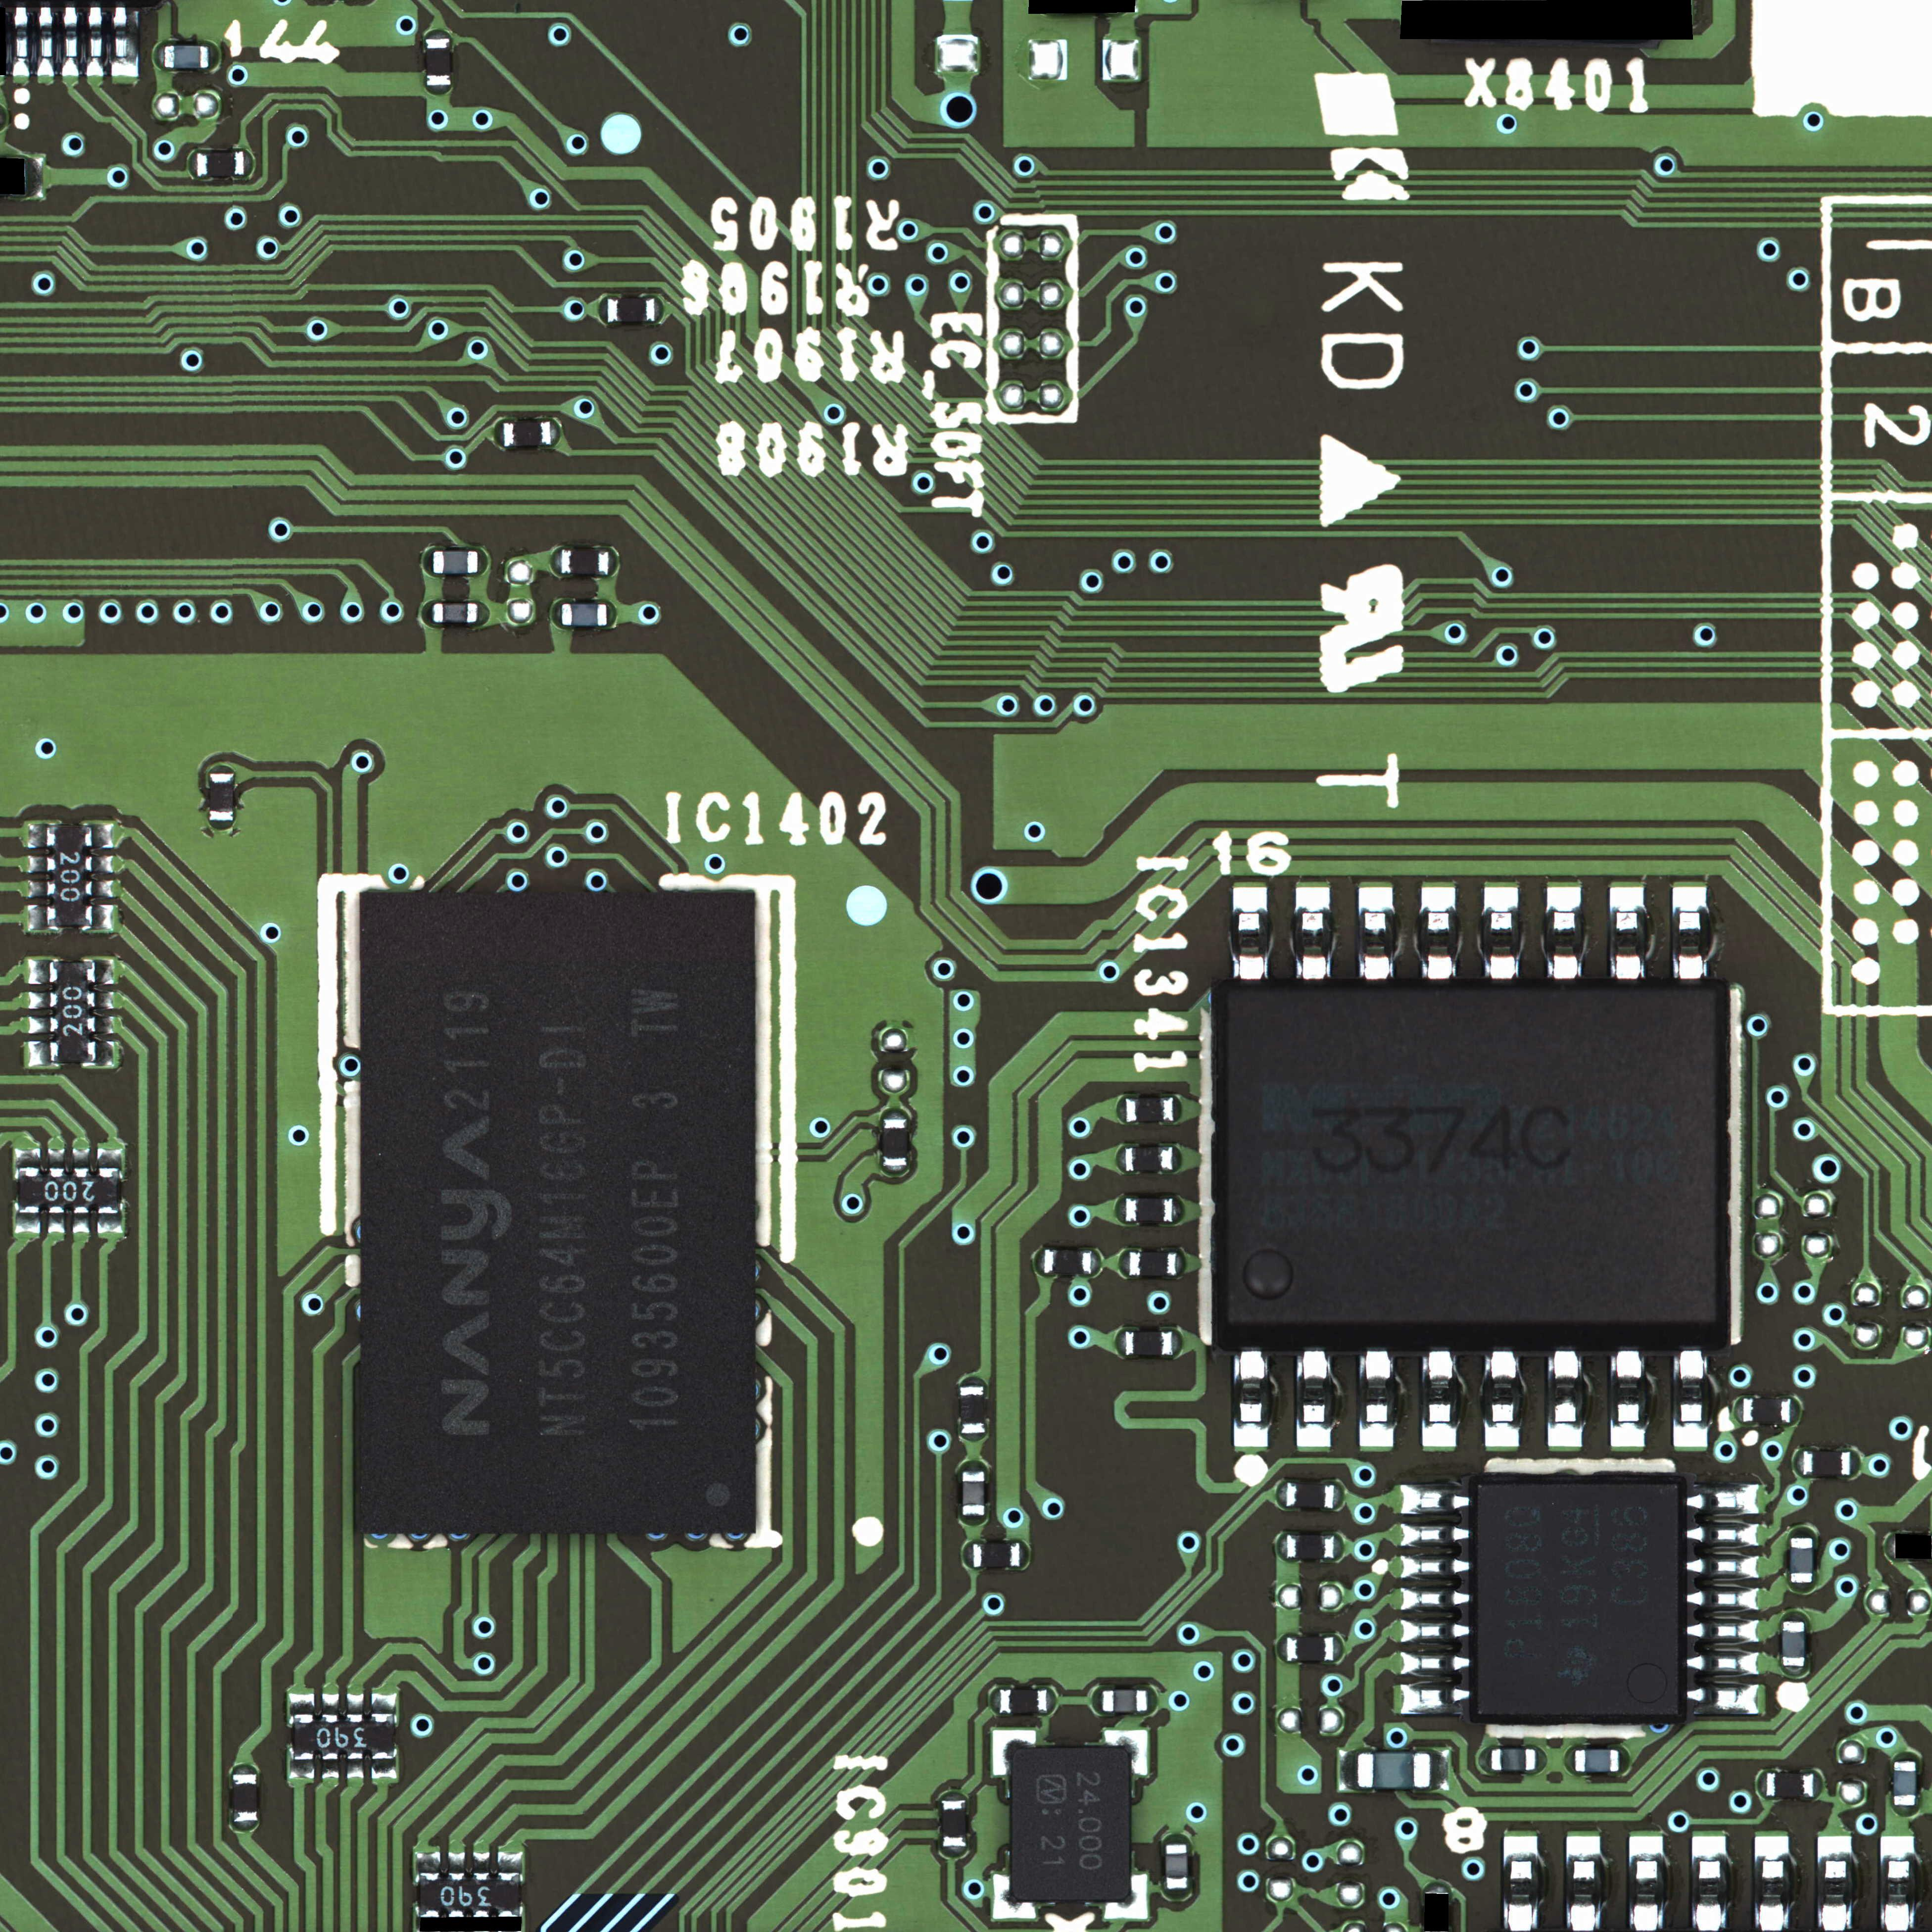Package: (361, 892, 755, 1532), (1219, 980, 1729, 1352), (1468, 1476, 1686, 1721), (1012, 1748, 1131, 1900), (50, 961, 96, 1062), (294, 1714, 395, 1760), (19, 1168, 119, 1214), (48, 826, 92, 925), (418, 1884, 520, 1916), (1359, 1753, 1430, 1787), (1286, 1481, 1334, 1507), (1125, 1198, 1173, 1223), (1125, 1146, 1173, 1171), (1286, 1637, 1334, 1661), (234, 1775, 258, 1821), (563, 548, 609, 573), (426, 39, 451, 85), (961, 1387, 985, 1433), (1131, 1251, 1177, 1276), (1046, 1249, 1092, 1274), (1803, 1451, 1849, 1476), (211, 773, 234, 821), (1000, 1690, 1047, 1713), (1125, 1332, 1173, 1355), (883, 1118, 906, 1166), (198, 152, 244, 175), (504, 423, 550, 446), (973, 1545, 1019, 1568), (1127, 1099, 1173, 1122), (1288, 1536, 1334, 1559), (1767, 1773, 1813, 1796), (1744, 1399, 1790, 1422), (433, 550, 478, 573), (563, 603, 607, 626), (943, 1801, 966, 1845), (607, 299, 655, 320), (962, 1472, 985, 1514), (1783, 1621, 1805, 1667), (1893, 1762, 1916, 1805), (1102, 1690, 1146, 1711), (1575, 1750, 1619, 1771), (1491, 1748, 1536, 1769), (1790, 1537, 1812, 1582), (165, 46, 207, 67), (1166, 1845, 1187, 1888), (433, 603, 478, 623)
Solder: (1690, 1835, 1725, 1932), (1233, 1352, 1269, 1447), (1484, 1352, 1520, 1447), (1504, 1835, 1539, 1930), (1564, 1835, 1599, 1930), (1879, 1836, 1914, 1932), (1753, 1835, 1789, 1930), (1359, 1352, 1394, 1445), (1421, 1352, 1456, 1445), (1610, 1352, 1645, 1445), (1672, 1352, 1707, 1445), (1295, 886, 1330, 978), (1546, 886, 1582, 978), (1297, 1352, 1330, 1447), (1548, 1352, 1582, 1447), (1629, 1835, 1663, 1930), (1819, 1835, 1852, 1930), (1233, 886, 1267, 978), (1359, 886, 1392, 978), (1421, 886, 1454, 978), (1484, 886, 1518, 978), (1610, 886, 1644, 978), (1672, 886, 1706, 978), (1686, 1484, 1759, 1514), (1688, 1684, 1759, 1714), (1399, 1684, 1468, 1714), (1399, 1484, 1468, 1514), (1104, 1730, 1148, 1775), (993, 1730, 1037, 1775), (993, 1874, 1037, 1918), (1104, 1874, 1146, 1920), (111, 5, 138, 74), (1399, 1651, 1468, 1675), (1399, 1619, 1468, 1644), (1688, 1523, 1759, 1546), (1688, 1555, 1759, 1578), (1688, 1587, 1759, 1610), (1399, 1587, 1468, 1610), (1399, 1555, 1468, 1578), (1399, 1523, 1468, 1546), (1688, 1621, 1759, 1642), (1688, 1652, 1759, 1674), (37, 5, 55, 76), (87, 7, 104, 78), (62, 7, 80, 76), (12, 7, 30, 76), (27, 154, 44, 200), (1430, 1752, 1449, 1789), (497, 1852, 522, 1881), (416, 1852, 441, 1879), (1341, 1752, 1359, 1787), (28, 1040, 50, 1069), (28, 959, 50, 985), (97, 1214, 124, 1235), (92, 904, 113, 929), (14, 1148, 41, 1168), (288, 1693, 315, 1713), (372, 1693, 398, 1713), (372, 1759, 398, 1778), (288, 1760, 315, 1780), (92, 824, 113, 847), (96, 959, 115, 984), (96, 1042, 115, 1067), (97, 1148, 122, 1168), (16, 1214, 41, 1233), (28, 823, 46, 849), (28, 904, 46, 931), (448, 1852, 465, 1879), (28, 1016, 51, 1035), (474, 1852, 490, 1879), (92, 855, 115, 872), (92, 879, 115, 897), (28, 879, 48, 899), (96, 1016, 115, 1035), (71, 1214, 90, 1233), (28, 991, 50, 1008), (28, 855, 46, 874), (96, 993, 115, 1010), (73, 1148, 90, 1168), (48, 1214, 65, 1233), (322, 1693, 340, 1713), (1477, 1748, 1491, 1771), (347, 1695, 364, 1713), (347, 1760, 364, 1778), (322, 1760, 340, 1778), (48, 1148, 64, 1168), (1173, 1198, 1185, 1223), (943, 1845, 968, 1858), (1426, 1881, 1449, 1893), (1276, 1534, 1288, 1557), (1115, 1196, 1125, 1223), (1115, 1330, 1125, 1357), (1334, 1481, 1345, 1507), (1276, 1481, 1286, 1507), (207, 46, 219, 67), (242, 152, 253, 177), (550, 548, 561, 573), (426, 28, 451, 39), (426, 85, 451, 96), (1092, 1249, 1102, 1274), (1177, 1251, 1187, 1276), (962, 1543, 973, 1568), (1019, 1543, 1030, 1568), (989, 1688, 1000, 1713), (1047, 1688, 1058, 1713), (1090, 1690, 1102, 1711), (1334, 1637, 1345, 1661), (1276, 1637, 1286, 1661), (1334, 1534, 1345, 1559), (1734, 1398, 1744, 1422), (1851, 1451, 1861, 1476), (1884, 1534, 1895, 1559), (1895, 1805, 1916, 1817), (1757, 1773, 1767, 1798), (423, 550, 433, 573), (550, 423, 561, 446), (883, 1108, 906, 1118), (1173, 1332, 1184, 1355), (961, 1376, 984, 1387), (943, 1790, 966, 1801), (1564, 1750, 1575, 1773), (1790, 1399, 1801, 1422), (1790, 1582, 1813, 1592), (1813, 1773, 1824, 1796), (421, 603, 433, 623), (478, 603, 490, 623), (610, 548, 619, 575), (607, 603, 617, 625), (478, 552, 488, 573), (962, 1460, 984, 1470), (962, 1514, 984, 1525), (1146, 1690, 1157, 1711), (1166, 1833, 1187, 1844), (1166, 1890, 1187, 1900), (1536, 1750, 1546, 1771), (1619, 1750, 1629, 1771), (1790, 1527, 1812, 1537), (1783, 1665, 1805, 1675), (234, 1822, 258, 1831), (1118, 1097, 1127, 1122), (1173, 1146, 1182, 1171), (1116, 1146, 1125, 1171), (1035, 1249, 1044, 1274), (1120, 1251, 1129, 1276), (961, 1433, 985, 1442), (1794, 1451, 1803, 1476), (156, 44, 165, 67), (188, 152, 196, 175), (211, 764, 234, 773), (211, 821, 234, 830), (234, 1764, 257, 1773), (655, 299, 663, 322), (495, 423, 504, 446), (1782, 1612, 1805, 1621), (1893, 1752, 1916, 1760), (554, 603, 563, 625), (1175, 1097, 1182, 1122), (600, 297, 607, 320), (883, 1166, 906, 1173)
